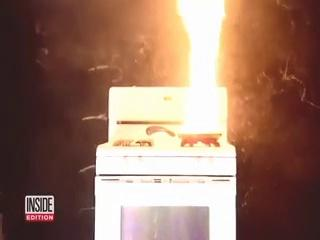Fire: (178, 86, 225, 160)
